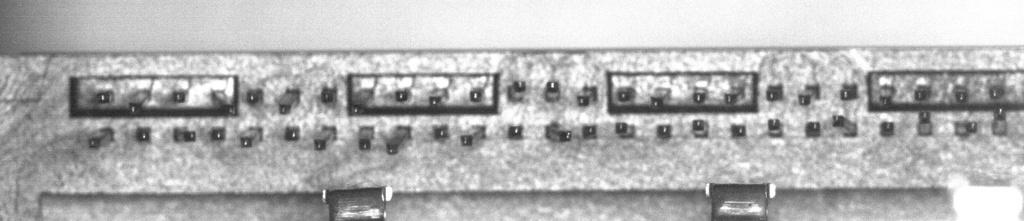pin_defect: (347, 85, 375, 117), (210, 88, 236, 118), (384, 126, 411, 154), (723, 77, 748, 106), (127, 88, 154, 114), (832, 113, 859, 139), (276, 87, 301, 113), (460, 124, 487, 146), (313, 125, 336, 150), (87, 127, 113, 149), (545, 122, 573, 142), (576, 83, 599, 107), (797, 83, 822, 105), (649, 85, 671, 109), (992, 105, 1009, 135), (240, 126, 264, 147), (506, 79, 526, 103), (878, 83, 896, 108), (357, 125, 375, 150), (917, 109, 933, 136), (615, 121, 636, 141), (427, 88, 448, 107), (543, 79, 561, 100), (173, 127, 196, 142), (913, 81, 930, 101), (955, 120, 976, 136), (951, 84, 969, 102), (691, 119, 709, 137), (615, 86, 634, 103), (320, 85, 337, 103), (840, 83, 858, 100), (767, 118, 783, 137), (766, 84, 783, 101), (171, 88, 187, 105), (880, 120, 895, 137)
pin_ok: (988, 83, 1005, 100), (692, 85, 708, 102), (246, 88, 263, 104), (730, 122, 747, 138), (805, 120, 821, 137), (284, 125, 300, 141), (432, 124, 449, 139), (135, 126, 152, 141), (469, 87, 484, 103), (507, 125, 524, 139), (95, 90, 112, 104), (582, 125, 598, 139), (210, 127, 226, 141), (657, 123, 672, 137), (395, 88, 410, 102)
